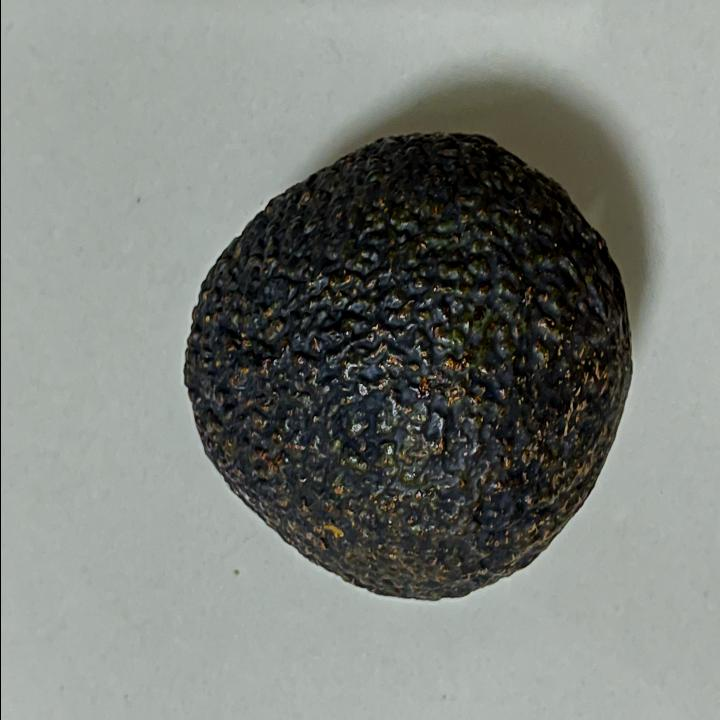Level2: (175, 124, 635, 607)
